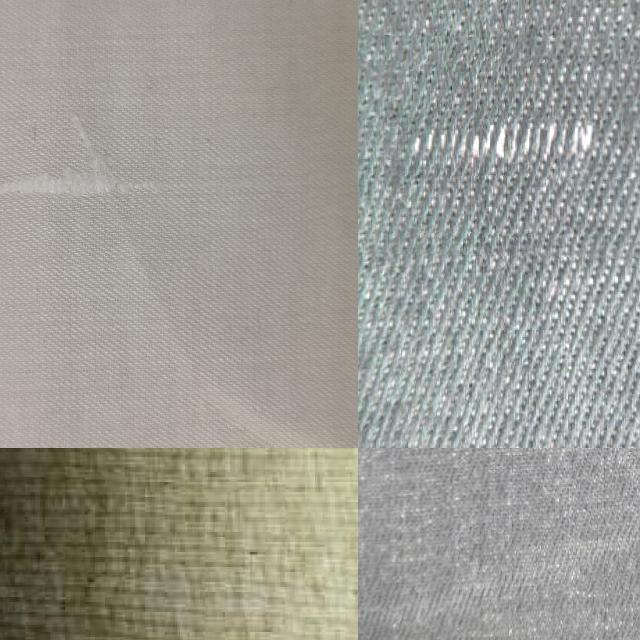stains: (358, 37, 640, 258), (0, 73, 310, 269)
